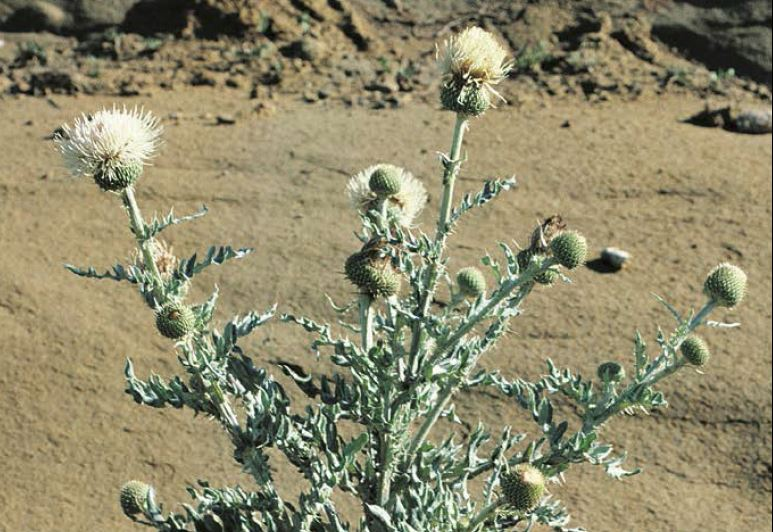thistle: (50, 112, 160, 192), (429, 26, 510, 112)
